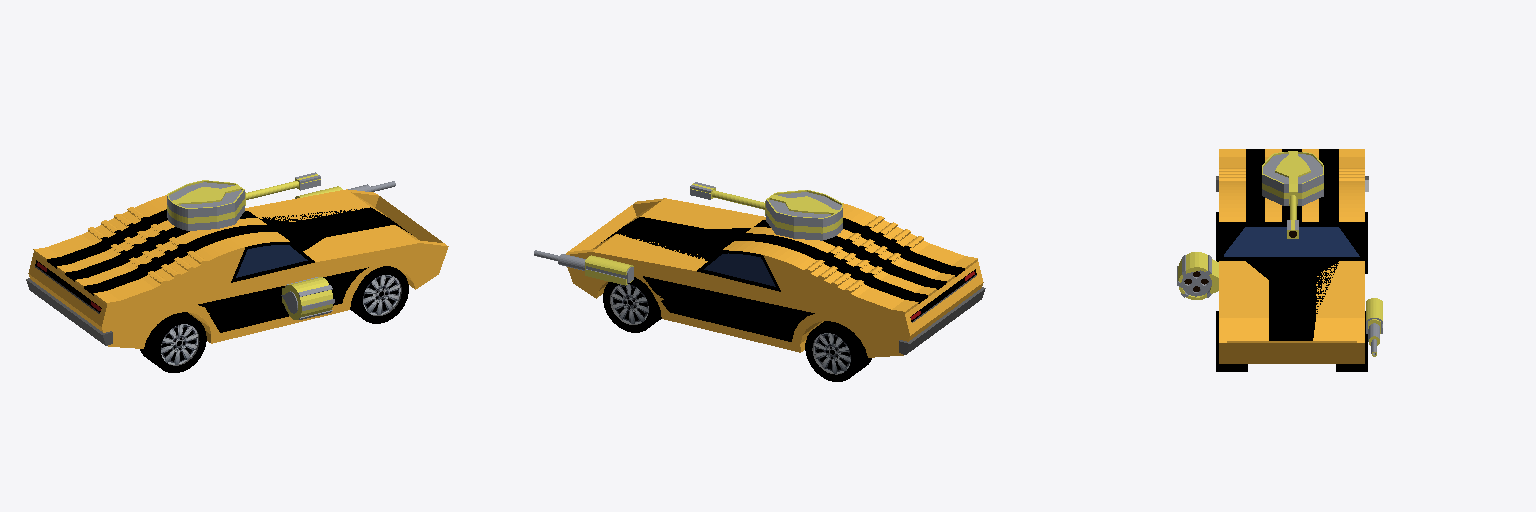
The picture shows the model from 3 angles: view 1: azimuth 30°, elevation 25°; view 2: azimuth 150°, elevation 25°; view 3: azimuth 270°, elevation 25°; orthographic projection.
Visible parts, largest first — view 1: Mesh1 Group3 Group2 Group1 Model, Mesh5 skp778F1 Model, Mesh8 skpB6F7_2 Model, Mesh10 skpB6F7_3 Model, Mesh2 skpAAEB1 Group2 Group1 Model; view 2: Mesh1 Group3 Group2 Group1 Model, Mesh5 skp778F1 Model, Mesh6 skpB6F7_1 Model, Mesh12 skpB6F7_4 Model, Mesh3 skp60BA1 Group1 Model; view 3: Mesh1 Group3 Group2 Group1 Model, Mesh5 skp778F1 Model, Mesh2 skpAAEB1 Group2 Group1 Model, Mesh3 skp60BA1 Group1 Model.
Boxes of the visible parts, box(x1,y1,x2,y2) form: Mesh1 Group3 Group2 Group1 Model: box(26, 189, 448, 348); Mesh5 skp778F1 Model: box(167, 180, 298, 230); Mesh8 skpB6F7_2 Model: box(140, 312, 206, 372); Mesh10 skpB6F7_3 Model: box(350, 266, 408, 323); Mesh2 skpAAEB1 Group2 Group1 Model: box(281, 277, 334, 319); Mesh1 Group3 Group2 Group1 Model: box(566, 198, 985, 357); Mesh5 skp778F1 Model: box(712, 190, 842, 240); Mesh6 skpB6F7_1 Model: box(805, 321, 871, 381); Mesh12 skpB6F7_4 Model: box(603, 277, 661, 332); Mesh3 skp60BA1 Group1 Model: box(534, 250, 633, 285); Mesh1 Group3 Group2 Group1 Model: box(1216, 149, 1368, 363); Mesh5 skp778F1 Model: box(1262, 151, 1323, 219); Mesh2 skpAAEB1 Group2 Group1 Model: box(1177, 252, 1218, 299); Mesh3 skp60BA1 Group1 Model: box(1366, 298, 1382, 356).
Bounding box in the file's own units: 2.97 × 1.03 × 1.42.
Materials: 14 (1 with a texture image).